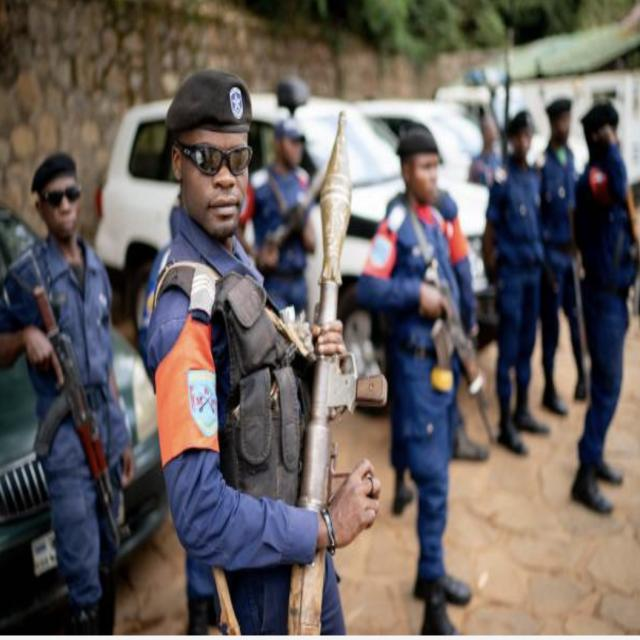bazooka: (281, 101, 355, 640)
